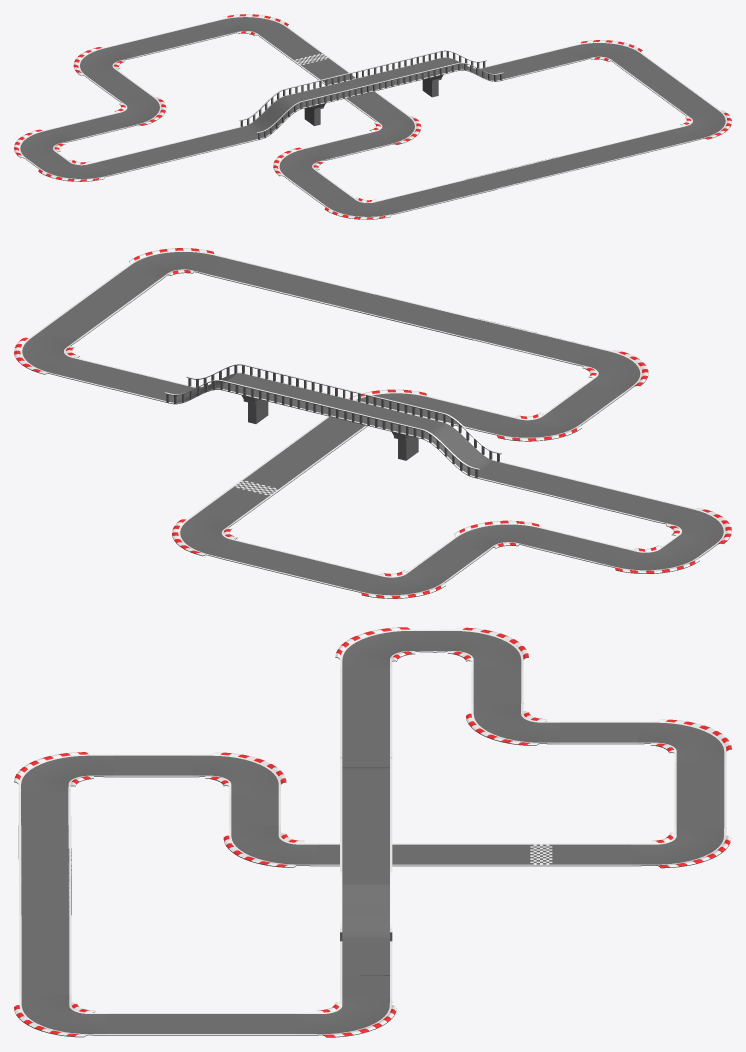
File: track.glb
3 renders of one model, top to bottom at view 1: azimuth 30°, elevation 25°; view 2: azimuth 150°, elevation 25°; view 3: azimuth 270°, elevation 25°, orthographic. The views are drawn at different scales.
Parts seen in each view (by area): view 1: Cube.003, Cube.007, Cube.025, Cube.011, Cube.010, Cube.015, Cube.001, Cube.021, Cube.023, Cube.013, Cube.006, Cube.031 (+21 smaller); view 2: Cube.003, Cube.023, Cube.013, Cube.006, Cube.015, Cube.001, Cube.011, Cube.025, Cube.010, Cube.007, Cube.031, Cube.016 (+22 smaller); view 3: Cube.003, Cube.010, Cube.007, Cube.015, Cube.006, Cube.001, Cube.011, Cube.021, Cube.025, Cube.013, Cube.023, Cube.004 (+21 smaller).
Part boxes in pixels (x1,y1,x2,y2): Cube.003: (193,50,550,151); Cube.007: (31,155,116,181); Cube.025: (317,193,402,219); Cube.011: (211,14,295,40); Cube.010: (564,40,649,66); Cube.015: (670,106,731,142); Cube.001: (105,93,166,129); Cube.021: (360,112,421,147); Cube.023: (273,145,334,181); Cube.013: (73,44,135,80); Cube.006: (14,127,75,163); Cube.031: (145,138,210,163); Cube.003: (105,364,560,493); Cube.023: (477,410,588,441); Cube.013: (341,567,452,598); Cube.006: (595,543,706,573); Cube.015: (122,248,232,279); Cube.001: (448,520,558,551); Cube.011: (172,512,244,559); Cube.025: (575,348,648,394); Cube.010: (14,330,86,377); Cube.007: (658,505,731,552); Cube.031: (538,476,620,508); Cube.016: (234,265,316,296); Cube.003: (340,734,392,975); Cube.010: (296,997,396,1037); Cube.007: (335,627,435,667); Cube.015: (14,994,107,1037); Cube.006: (435,627,528,670); Cube.001: (466,703,559,745); Cube.011: (631,828,731,868); Cube.021: (223,825,317,867); Cube.025: (14,752,114,791); Cube.013: (638,719,731,761); Cube.023: (192,752,286,794); Cube.004: (559,721,638,744).
Bounding box in the file's own units: 534 × 27.74 × 395.
